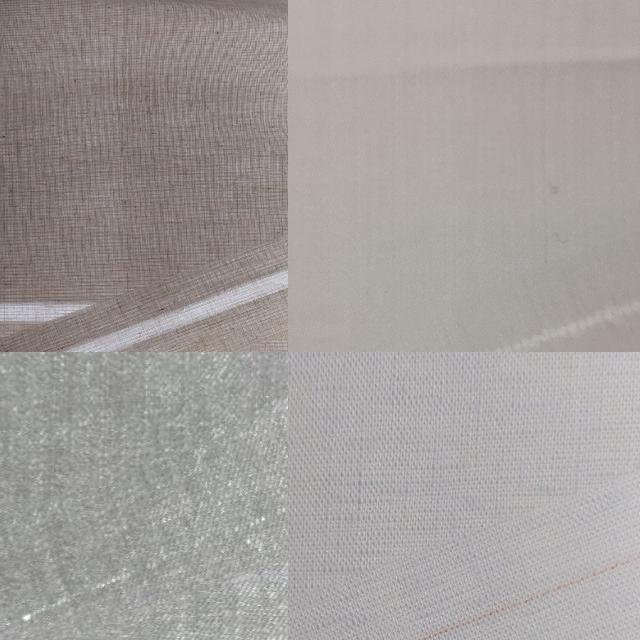Thread_other: (0, 373, 288, 613), (288, 499, 640, 640), (0, 221, 288, 352), (288, 252, 640, 352)
